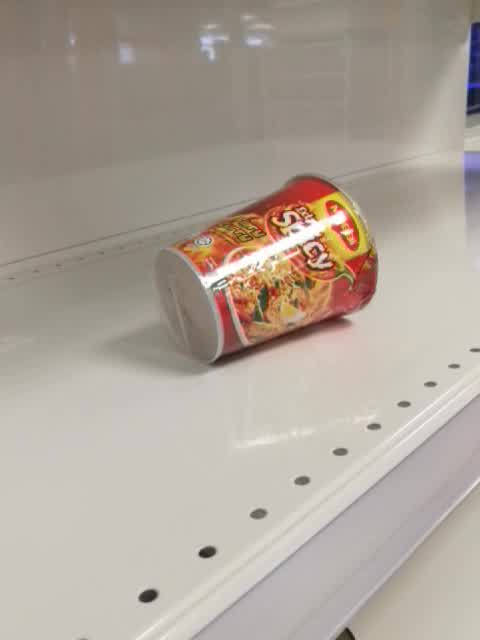maggi: (154, 172, 380, 367)
